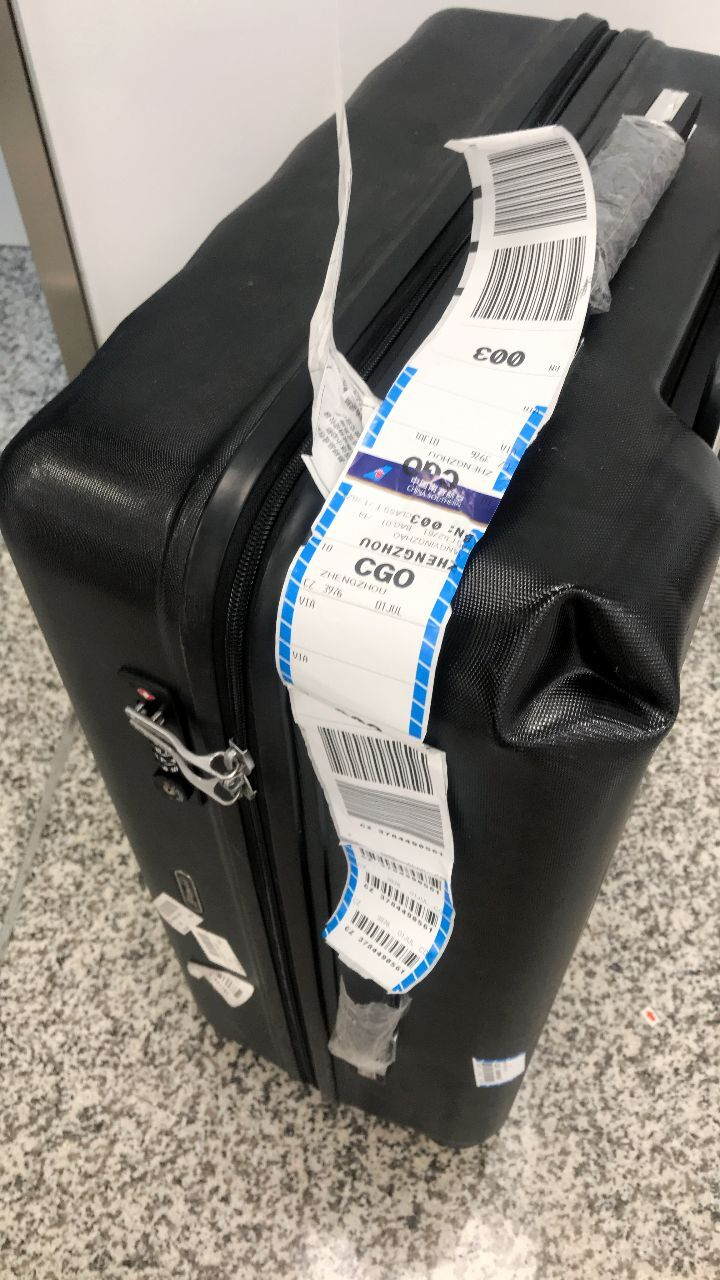rupture: (488, 580, 679, 752)
